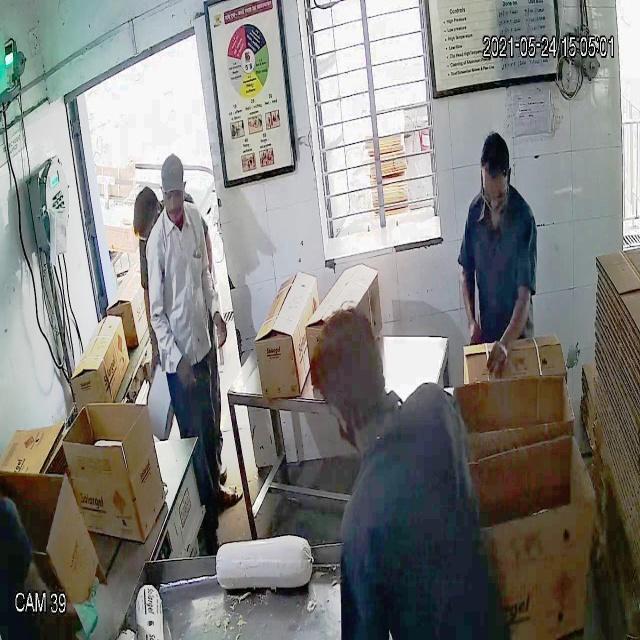Gafas: (479, 176, 511, 209)
Sin_gafas: (158, 185, 186, 209)
